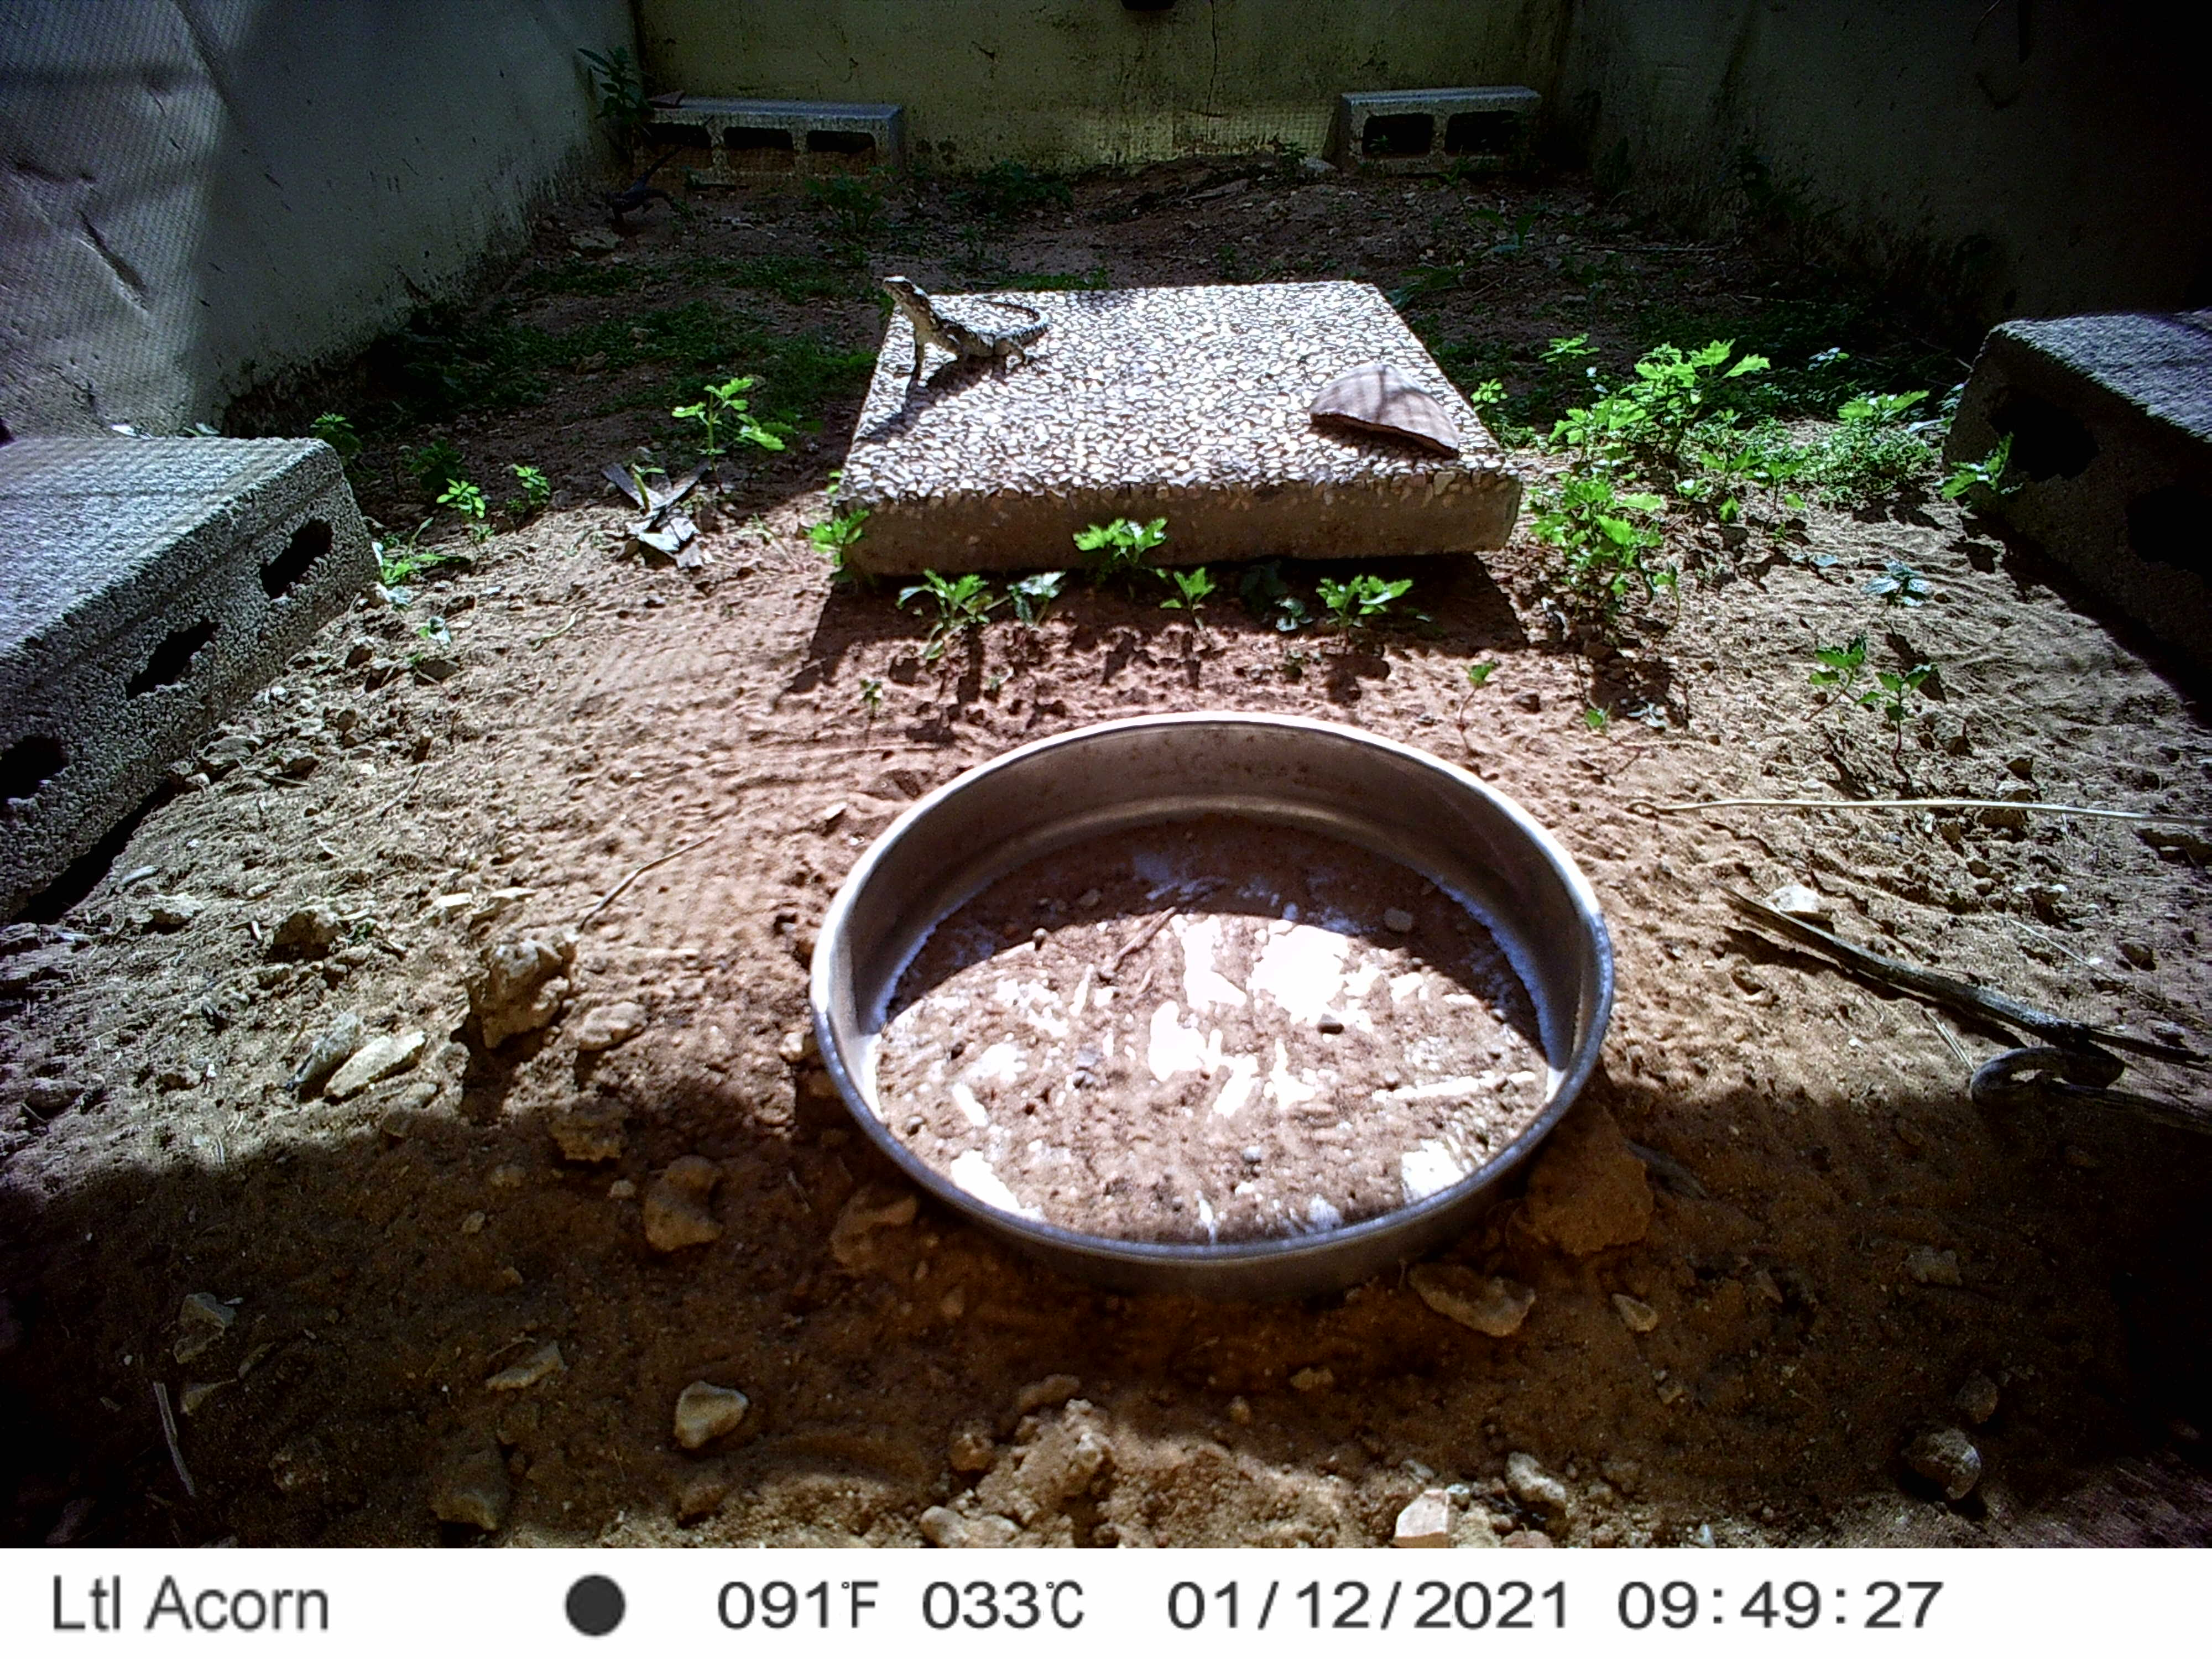lizard: (880, 275, 1047, 396), (603, 141, 695, 230)
